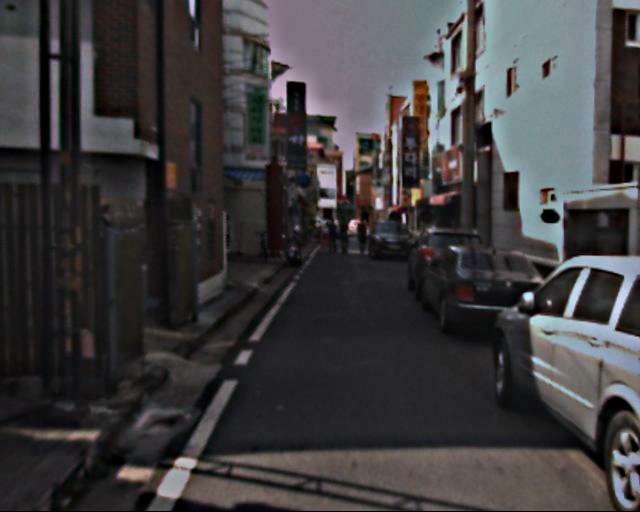person: (323, 216, 340, 258), (355, 216, 372, 257), (338, 219, 354, 257)
